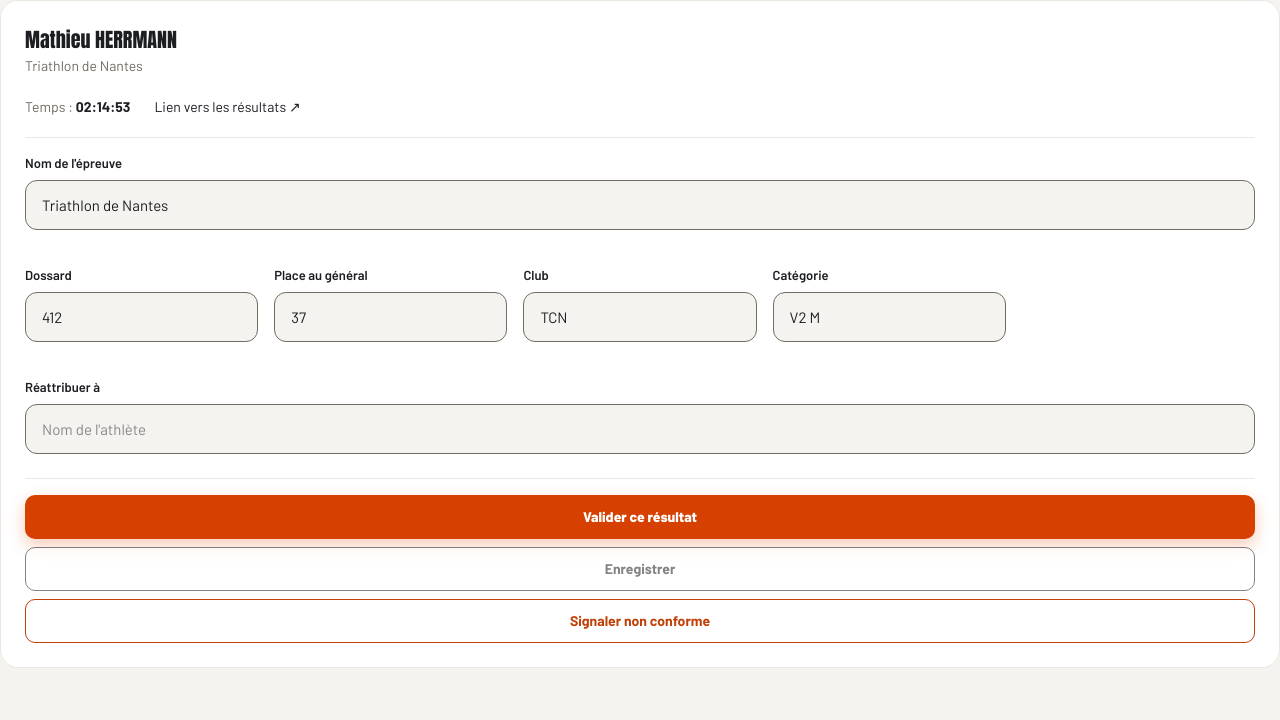
ParticipationPanel — erreurs › signale une collision de renommage en français
Type " 2026" into the field labelled "Nom de l'épreuve" at (640, 205), box [42,194,1238,216]
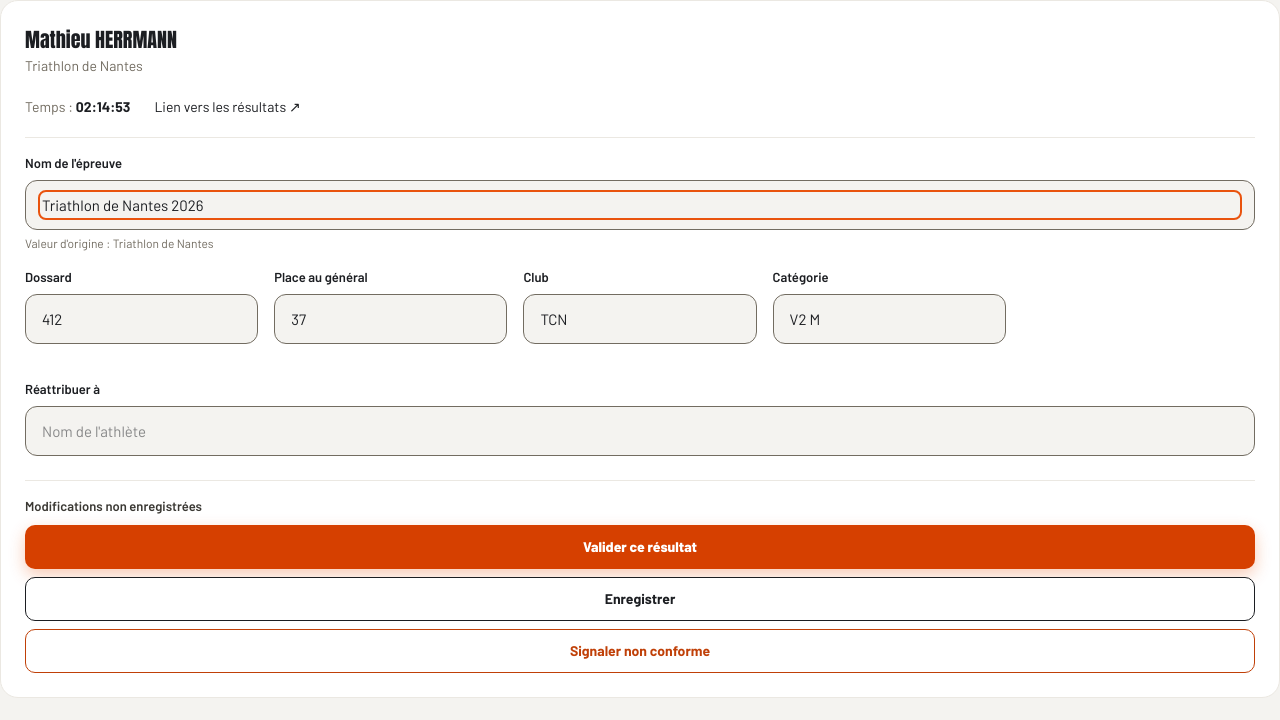
Click the button "Enregistrer" at (640, 598), box [25,576,1255,620]
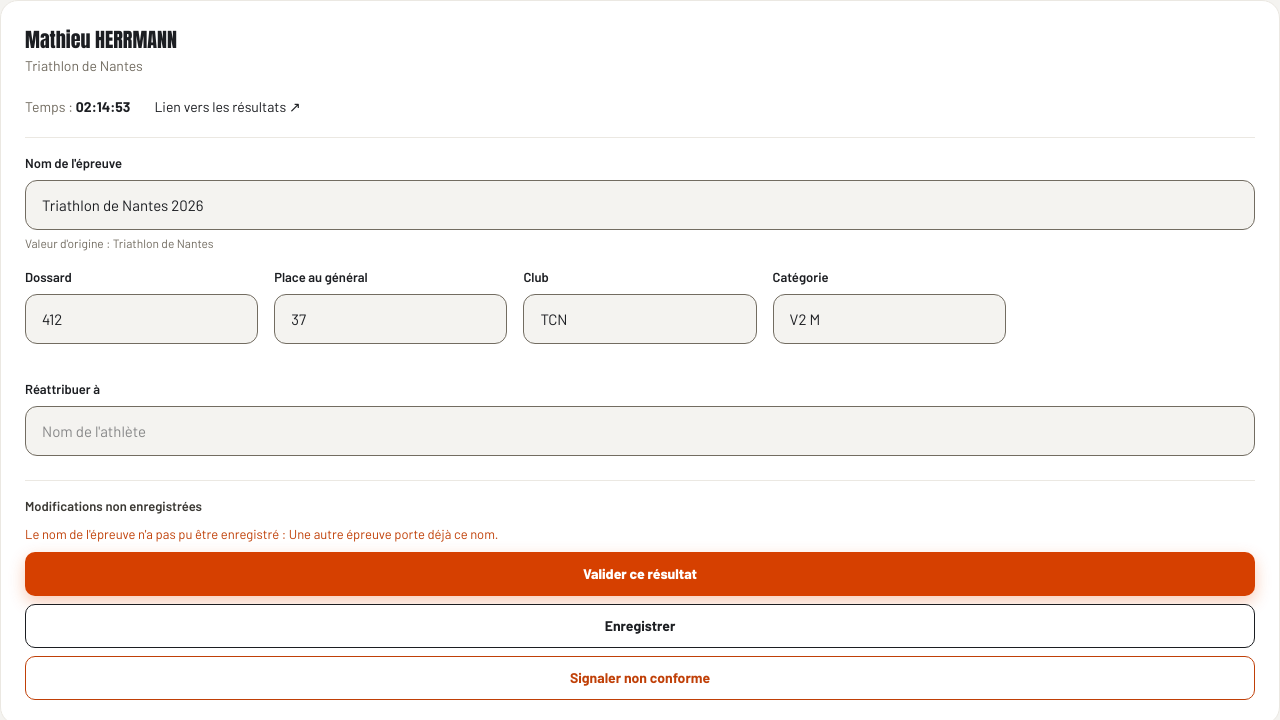
Expected: the message shows "Une autre épreuve porte déjà ce nom.", [25,526,498,542]
